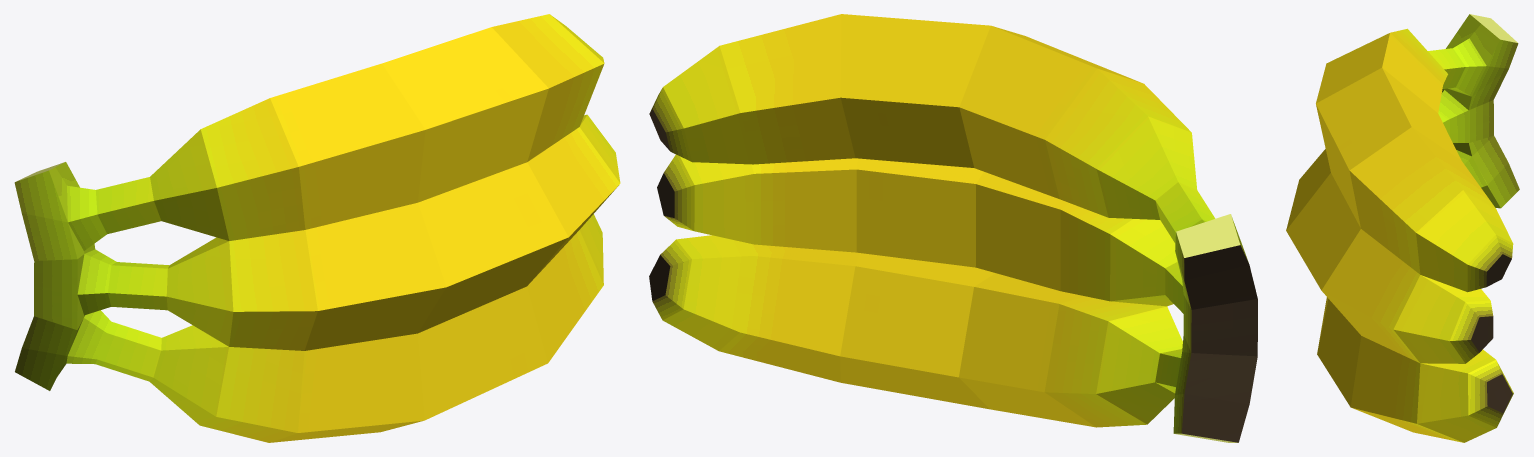
The model's file is banana-2.fbx.
The picture shows the model from 3 angles, left to right: view 1: azimuth 30°, elevation 25°; view 2: azimuth 150°, elevation 25°; view 3: azimuth 270°, elevation 25°; orthographic projection. The views are drawn at different scales.
Visible parts, largest first — view 1: partA, partB; view 2: partA, partB; view 3: partA, partB.
Part boxes in pixels (<box>): partA: <box>14,14,620,350</box>; partB: <box>15,214,603,442</box>; partA: <box>649,14,1257,356</box>; partB: <box>649,235,1257,442</box>; partA: <box>1286,14,1518,363</box>; partB: <box>1317,136,1519,442</box>.
Bounding box in the file's own units: 12.7 × 7.75 × 5.17.
